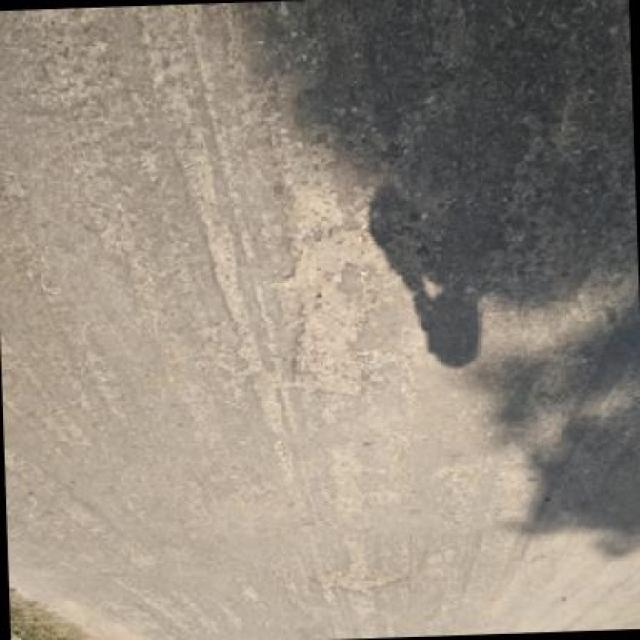pothole1: (277, 179, 395, 403), (313, 560, 410, 597)
